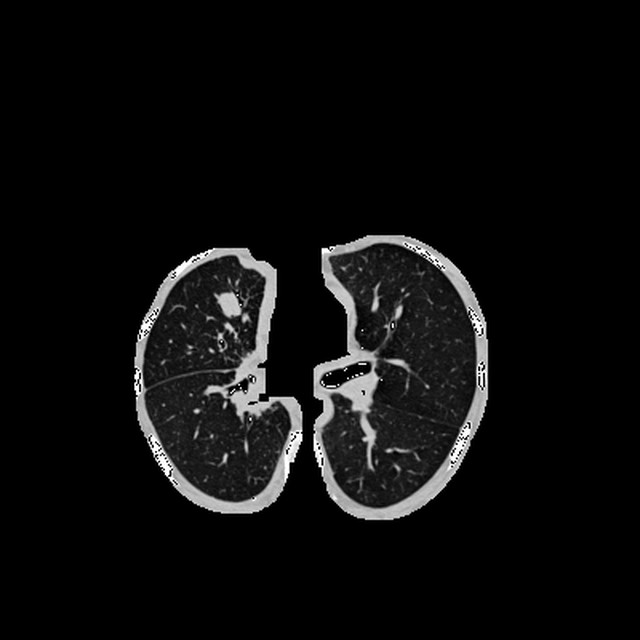PN: (218, 291, 243, 317)
